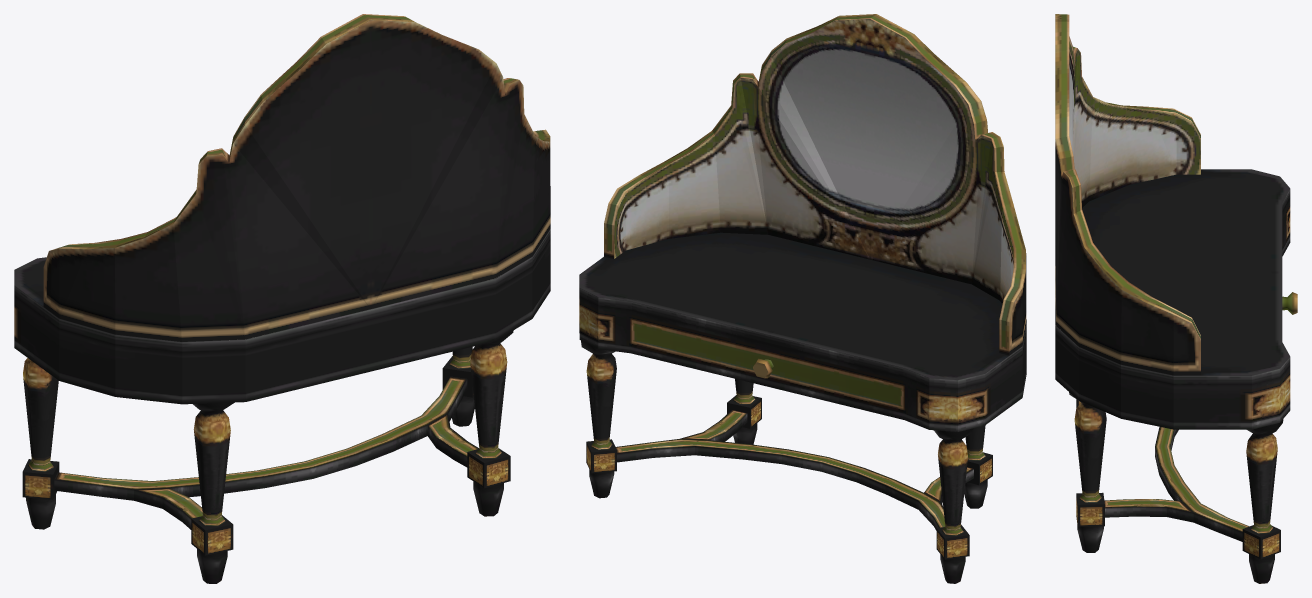
Rendered from furni_0201217_03.FBX.
3 renders of one model, left to right at view 1: azimuth 30°, elevation 25°; view 2: azimuth 150°, elevation 25°; view 3: azimuth 270°, elevation 25°, orthographic. The views are drawn at different scales.
Visible parts, largest first — view 1: furni_0201217_03; view 2: furni_0201217_03; view 3: furni_0201217_03.
Part boxes in pixels (x1,y1,x2,y2): furni_0201217_03: (14, 14, 550, 583); furni_0201217_03: (579, 14, 1026, 583); furni_0201217_03: (1055, 14, 1297, 583).
Bounding box in the file's own units: 161 × 172 × 80.23.
